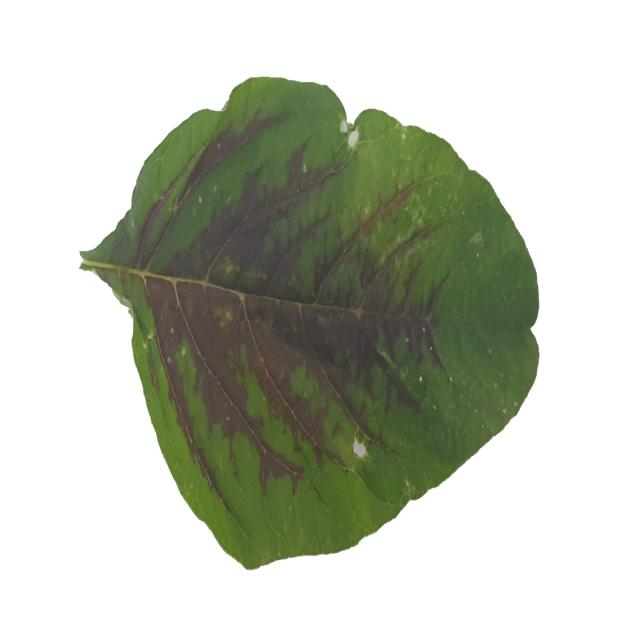Medicinal-Arive Dantu: (82, 72, 541, 567)
